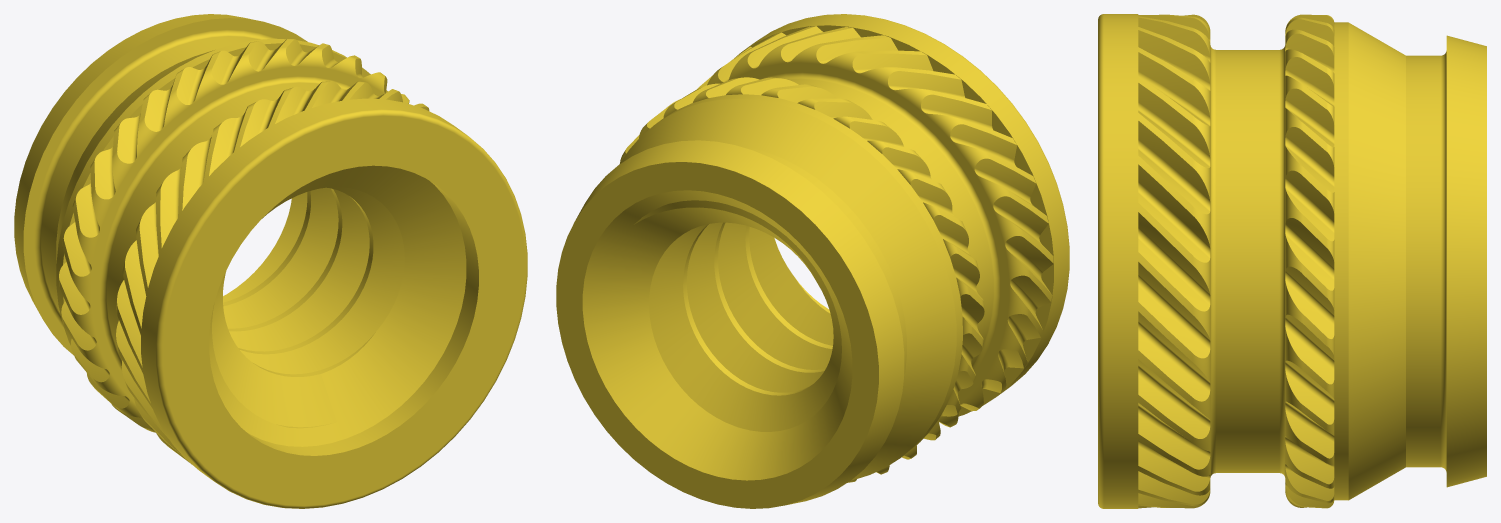
Rendered from _93365A120_Brass_Tapered_Heat_Set_Inserts_for_Plastic.gltf.
3 renders of one model, left to right at view 1: azimuth 30°, elevation 25°; view 2: azimuth 150°, elevation 25°; view 3: azimuth 270°, elevation 25°, orthographic. The views are drawn at different scales.
Visible parts, largest first — view 1: mesh4267, mesh4264, mesh4265, mesh4269, mesh4457, mesh4268, mesh4257, mesh4460, mesh4255, mesh4266, mesh4458, mesh4254 (+20 smaller); view 2: mesh4262, mesh4260, mesh4259, mesh4258, mesh4254, mesh4269, mesh4463, mesh4460, mesh4462, mesh4270, mesh4464, mesh4461 (+18 smaller); view 3: mesh4460, mesh4258, mesh4254, mesh4269, mesh4257, mesh4270, mesh4463, mesh4457, mesh4459, mesh4461, mesh4268, mesh4256 (+58 smaller).
Part boxes in pixels (x1,y1,x2,y2): mesh4267: (163,116,525,505); mesh4264: (212,187,404,427); mesh4265: (209,165,466,446); mesh4269: (141,98,466,479); mesh4457: (70,47,409,432); mesh4268: (156,109,527,508); mesh4257: (41,36,259,311); mesh4460: (106,82,318,348); mesh4255: (23,18,307,355); mesh4266: (248,181,478,455); mesh4458: (91,66,383,402); mesh4254: (14,14,260,318); mesh4262: (634,200,841,431); mesh4260: (582,190,852,480); mesh4259: (556,162,878,508); mesh4258: (619,99,956,480); mesh4254: (576,140,904,504); mesh4269: (742,14,1068,395); mesh4463: (707,43,1029,427); mesh4460: (787,79,993,365); mesh4462: (734,63,1009,403); mesh4270: (656,94,962,455); mesh4464: (735,25,1053,416); mesh4461: (759,72,1000,372); mesh4460: (1216,50,1279,472); mesh4258: (1348,23,1405,499); mesh4254: (1446,35,1486,487); mesh4269: (1104,14,1138,508); mesh4257: (1406,55,1440,467); mesh4270: (1334,22,1348,500); mesh4463: (1192,16,1210,506); mesh4457: (1285,17,1302,506); mesh4459: (1279,45,1285,477); mesh4461: (1210,45,1216,477); mesh4268: (1098,14,1103,508); mesh4256: (1440,51,1446,471).
Bounding box in the file's own units: 0.00436 × 0.00437 × 0.00343.
